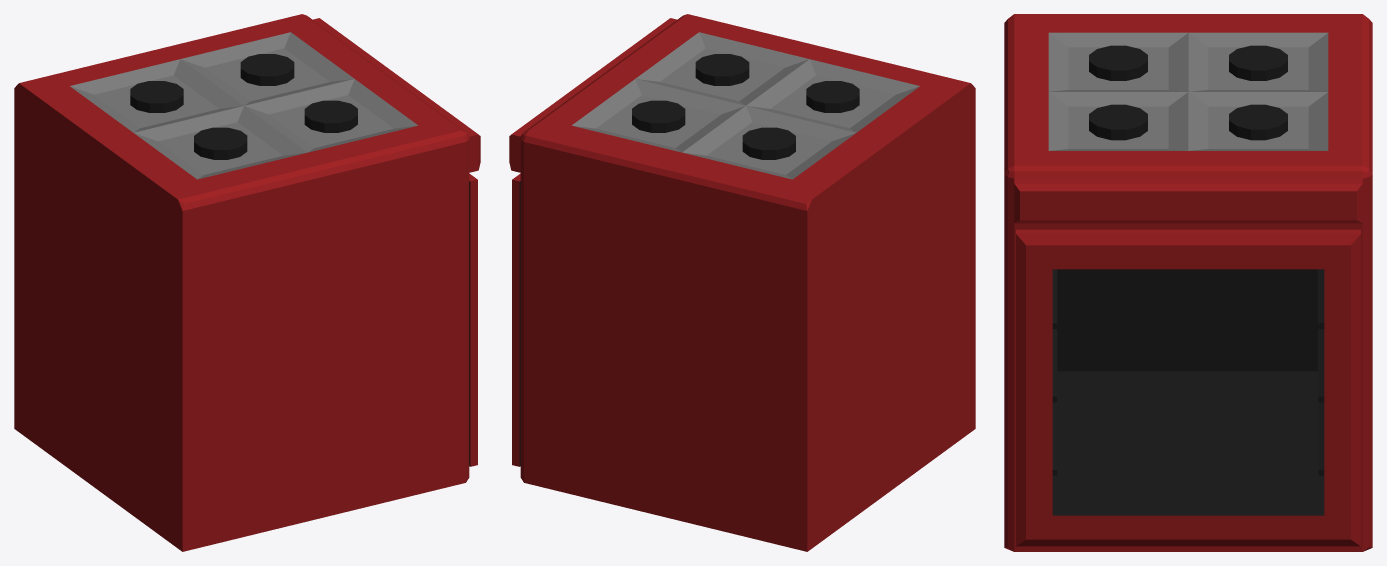
The model's file is horno.glb.
The picture shows the model from 3 angles, left to right: view 1: azimuth 30°, elevation 25°; view 2: azimuth 150°, elevation 25°; view 3: azimuth 270°, elevation 25°; orthographic projection. The views are drawn at different scales.
Visible parts, largest first — view 1: Horno, Puerta; view 2: Horno, Puerta; view 3: Horno, Puerta.
Part boxes in pixels (box(x1,y1,x2,y2)): Horno: box(14, 14, 480, 551); Puerta: box(469, 173, 477, 466); Horno: box(509, 14, 975, 551); Puerta: box(512, 173, 520, 466); Horno: box(1004, 14, 1372, 551); Puerta: box(1016, 229, 1360, 546).
Size of what is drawn, in the model's own units: 2.1 by 2.32 by 2.
Materials: 3 (1 with a texture image).
